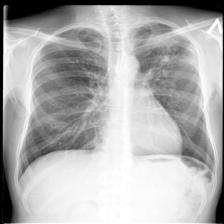tuberculosis: (11, 16, 222, 192)
